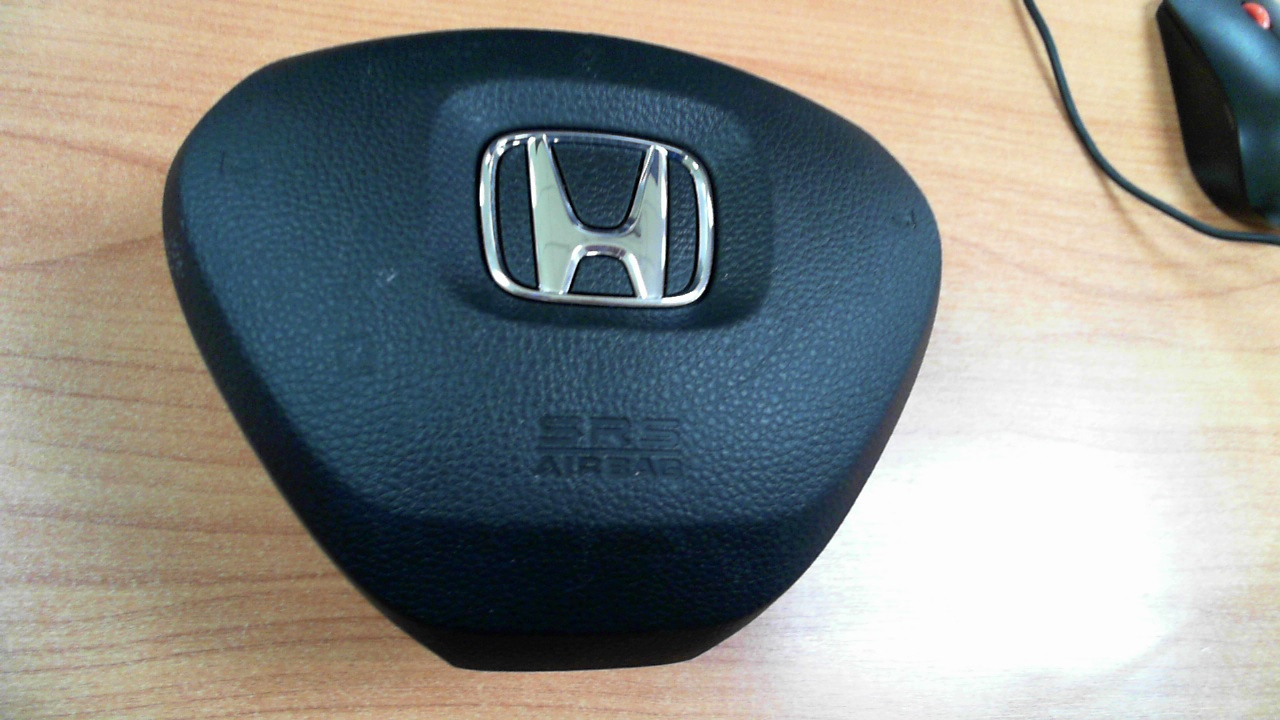Airbag: (162, 30, 942, 672)
